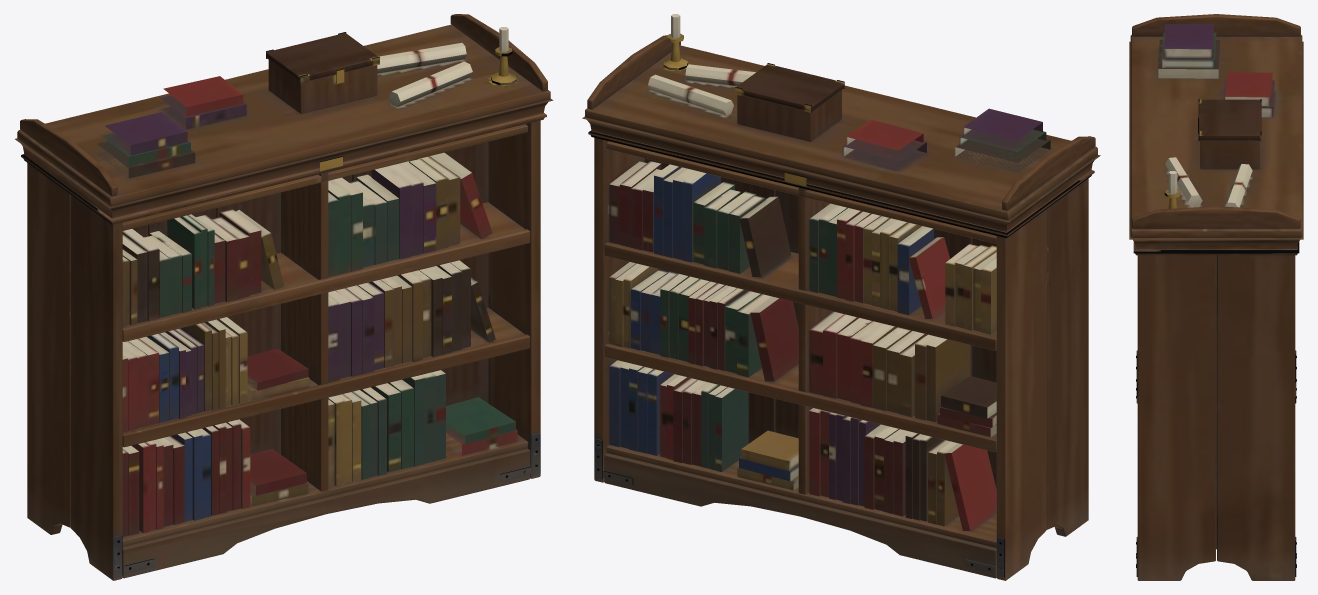
The model's file is bookcase-long.hq.glb.
The picture shows the model from 3 angles, left to right: view 1: azimuth 30°, elevation 25°; view 2: azimuth 150°, elevation 25°; view 3: azimuth 270°, elevation 25°; orthographic projection. The views are drawn at different scales.
Visible parts, largest first — view 1: bookcase-long; view 2: bookcase-long; view 3: bookcase-long.
Part boxes in pixels (bbox=[...]): bookcase-long: bbox=[15, 14, 553, 580]; bookcase-long: bbox=[582, 14, 1100, 580]; bookcase-long: bbox=[1129, 14, 1303, 580].
Bounding box in the file's own units: 1.72 × 1.63 × 0.64.
Materials: 1 (1 with a texture image).
